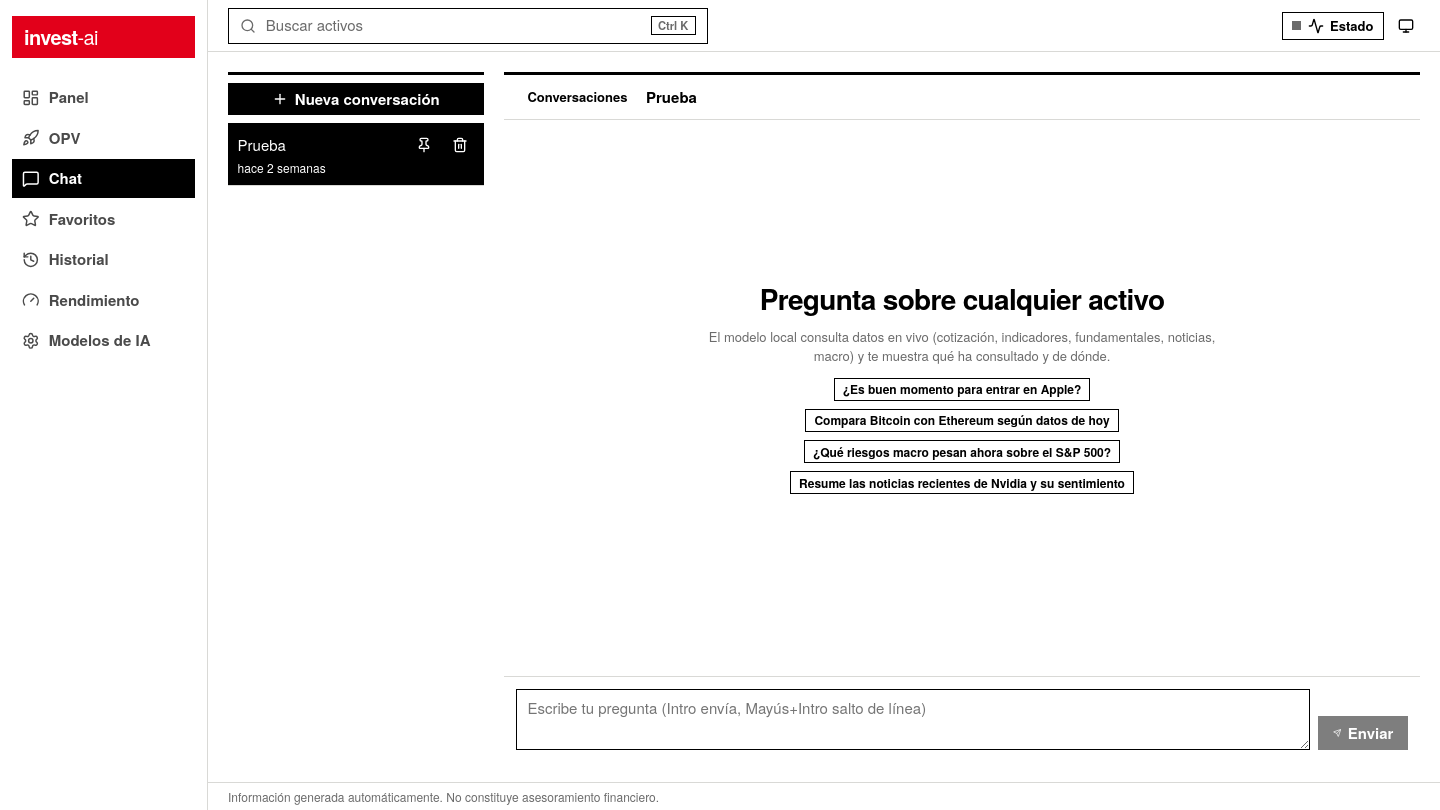
ChatPage: una respuesta no se pinta dos veces › si un error corta la respuesta y el servidor guardó el texto parcial, sale una sola vez (con el aviso de truncado)
Step 1. Type "hola" into the text box named "Mensaje" → (913, 719), box top-left (516, 689), bottom-right (1310, 750)
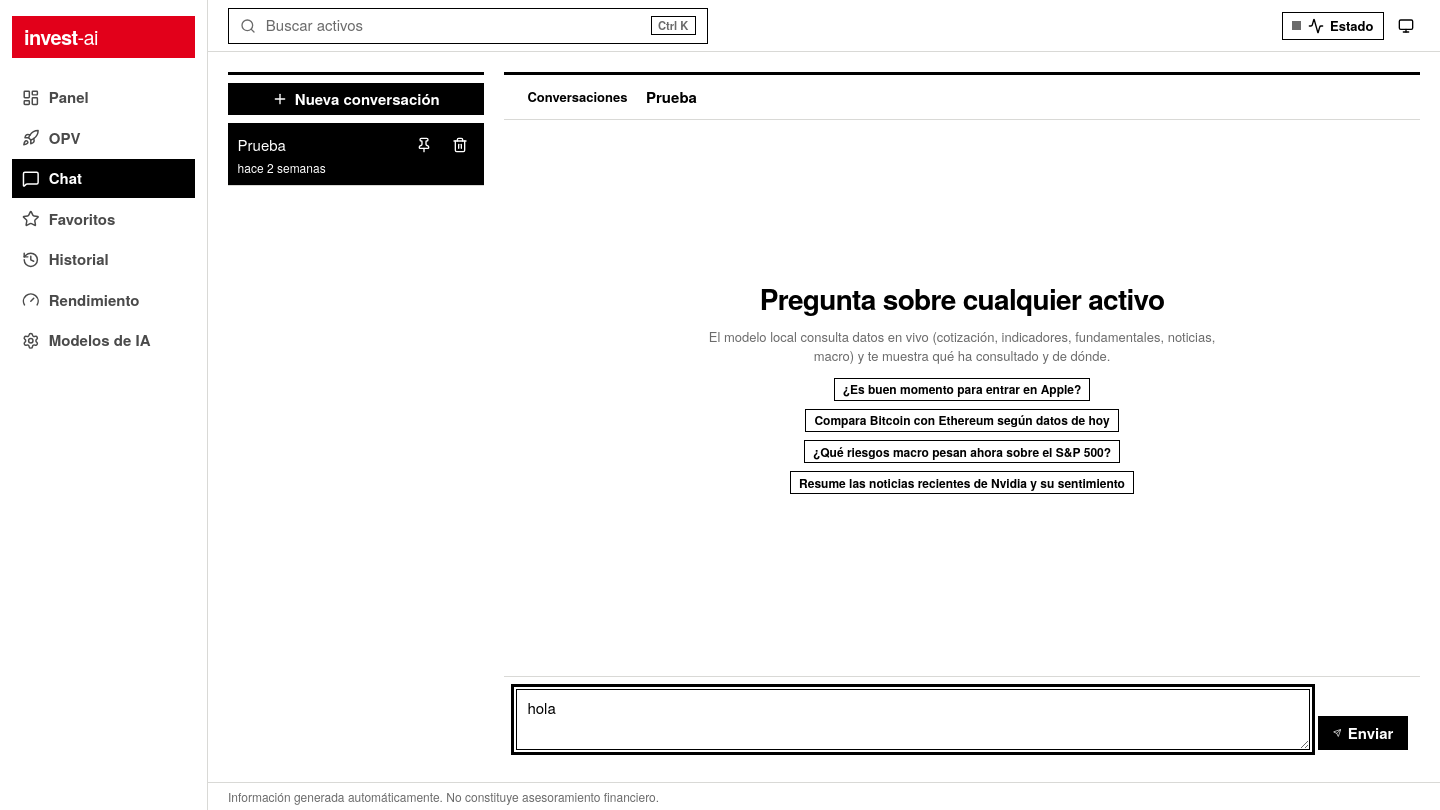
Step 2. Click the button "Enviar" → (1363, 733), box top-left (1318, 716), bottom-right (1408, 750)
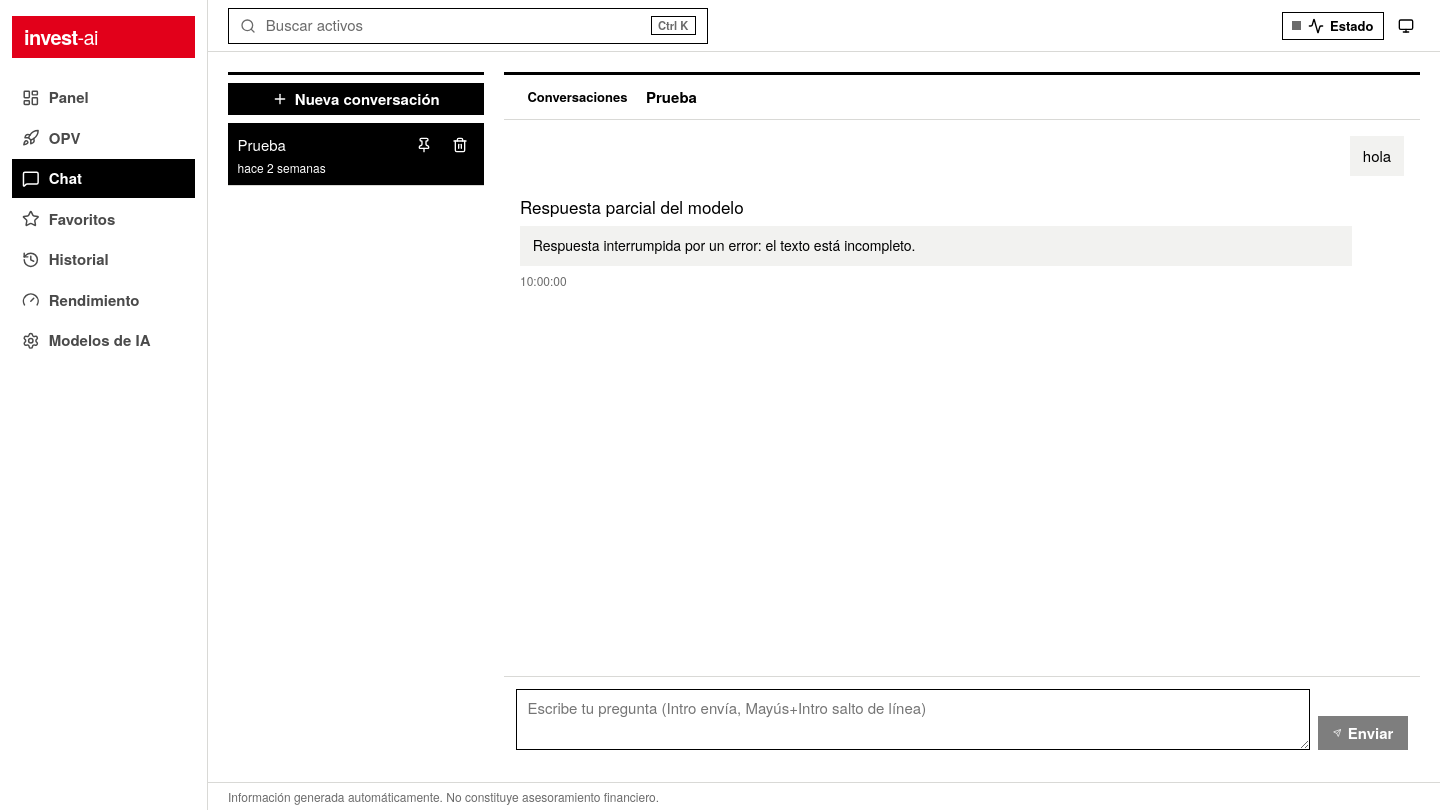
Expected: the text "Respuesta interrumpida por un error: el texto está incompleto." is shown, top-left (520, 226), bottom-right (1352, 266)
Expected: the text "Respuesta parcial del modelo" is shown once, top-left (520, 194), bottom-right (744, 219)
Expected: the text "hola" is shown once, top-left (1363, 145), bottom-right (1391, 167)
